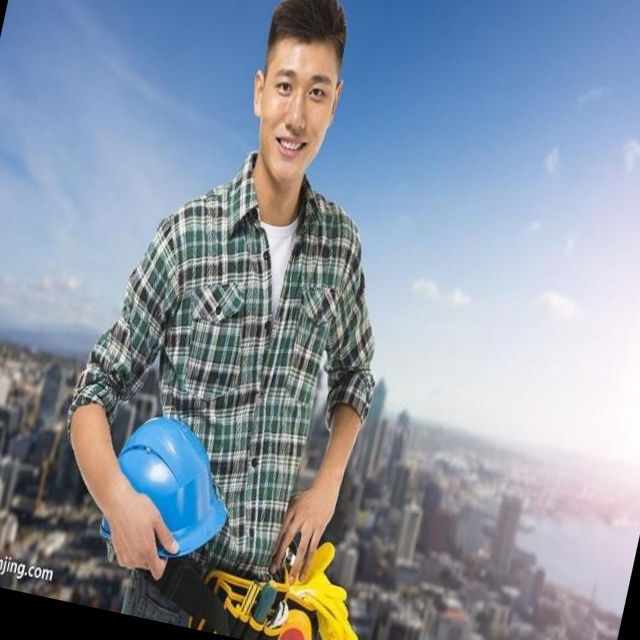Sin_Casco_Mascarrilla: (240, 0, 362, 175)
